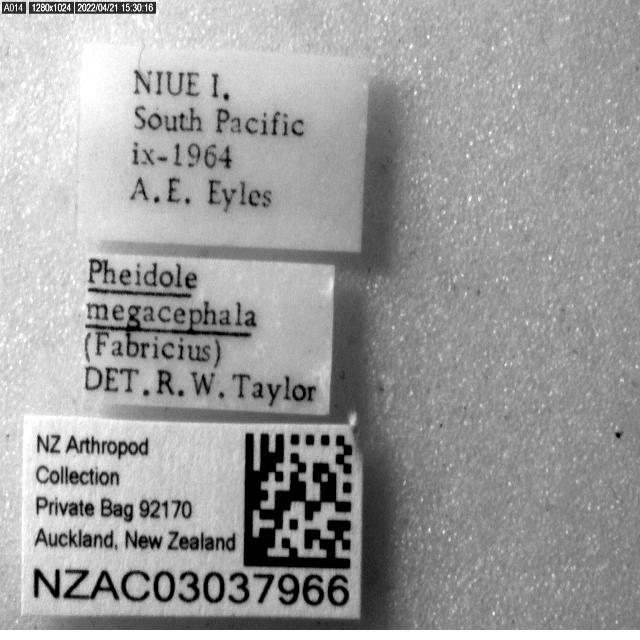typed_label: (22, 417, 361, 619), (78, 45, 369, 252), (85, 255, 334, 414)
